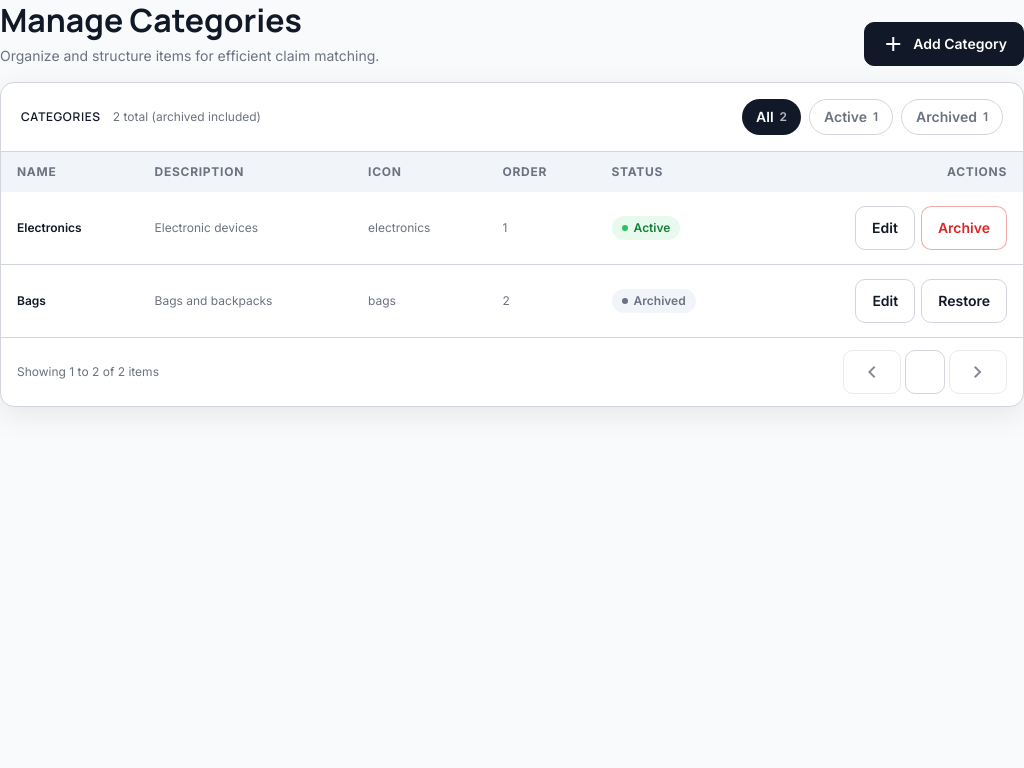
Categories › opens edit modal when 'Edit' is clicked on a category
Expected: the text "Electronics" is shown, [1,192,139,264]
Step 1. Click the button "Edit" in the row of "Electronic devices" → x=885, y=228, box [855,206,915,250]
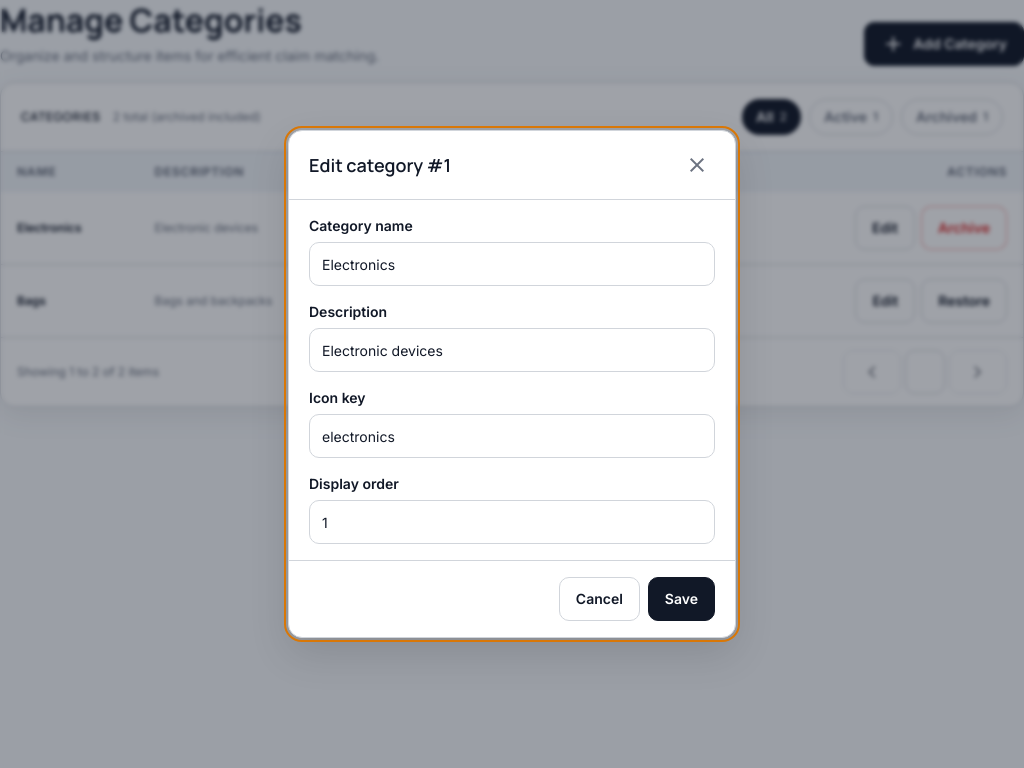
Expected: the dialog is shown, [288,130,736,638]
Expected: the heading "Edit category #1" is shown, [309,152,451,178]
